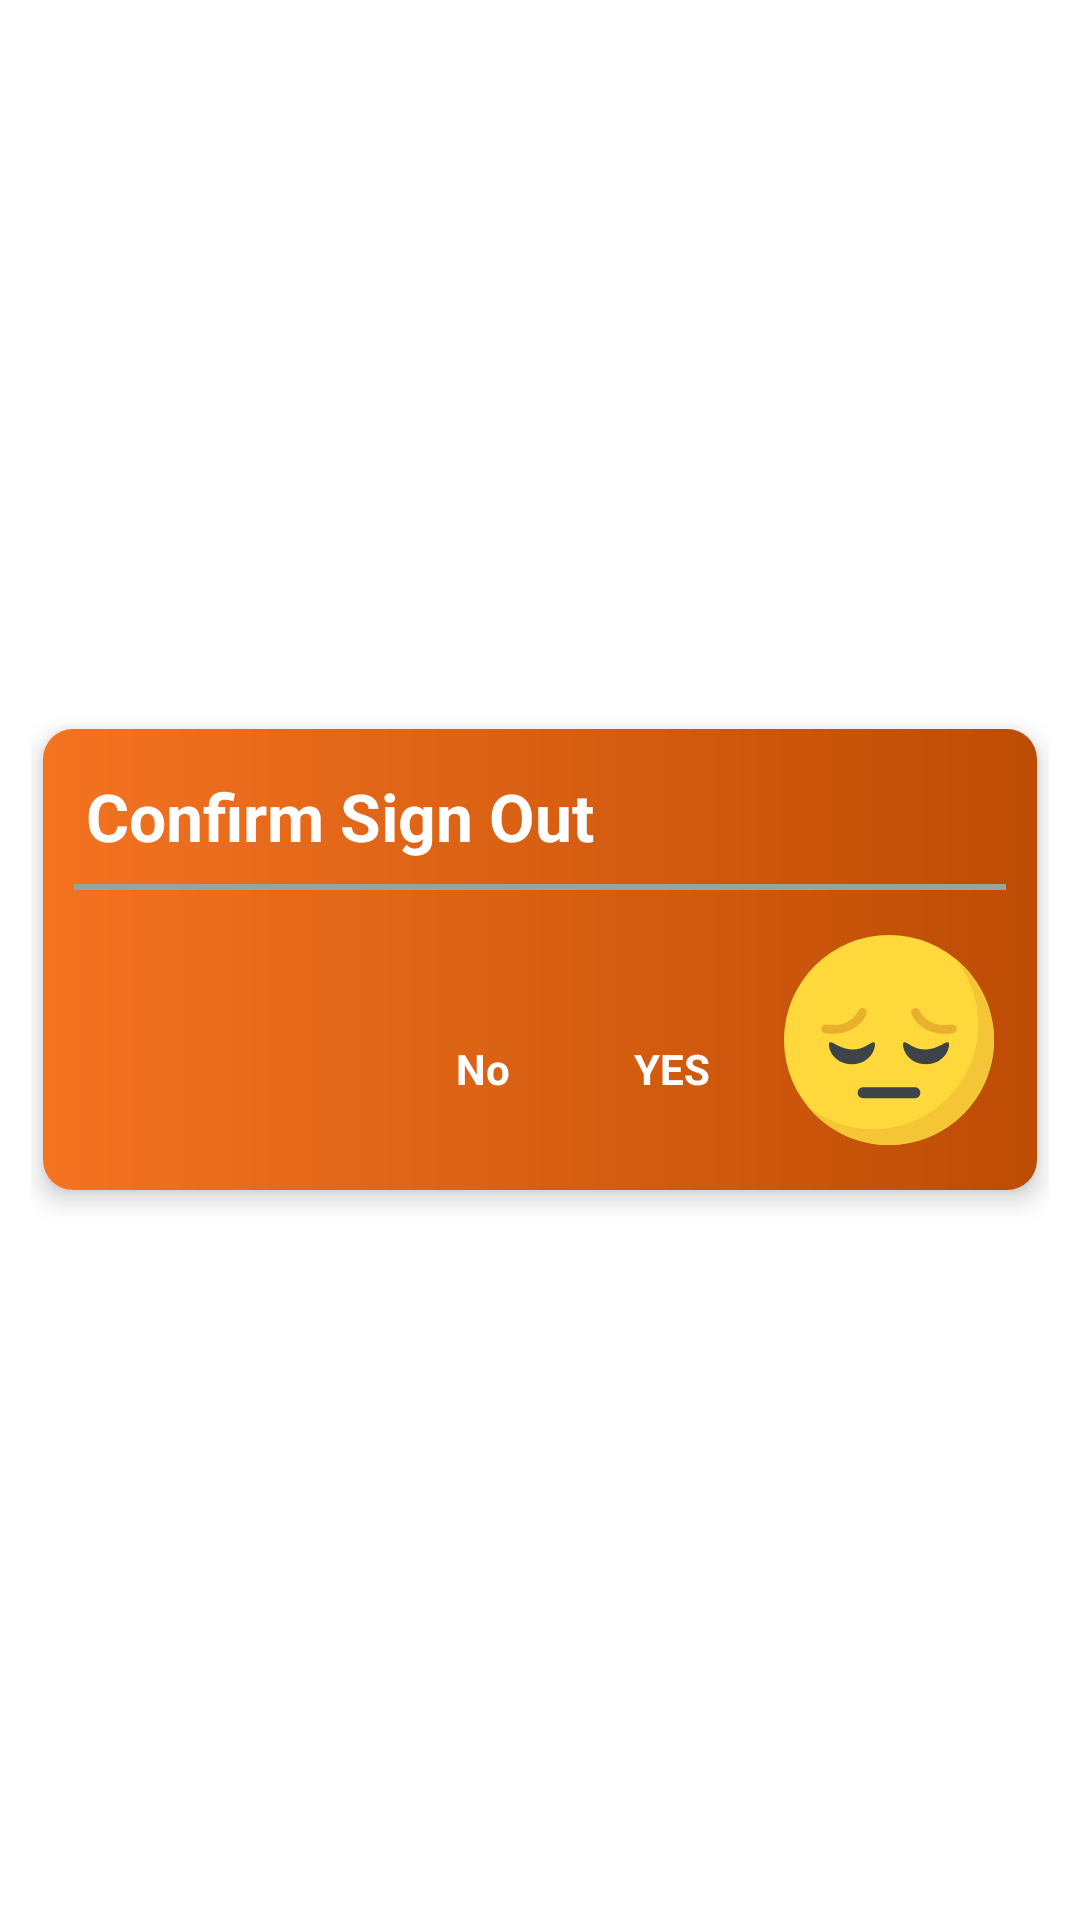

Point at icon controls on the screen. Image size 1080px×1920px, points as (x,y).
signout sad: (889,1040)
